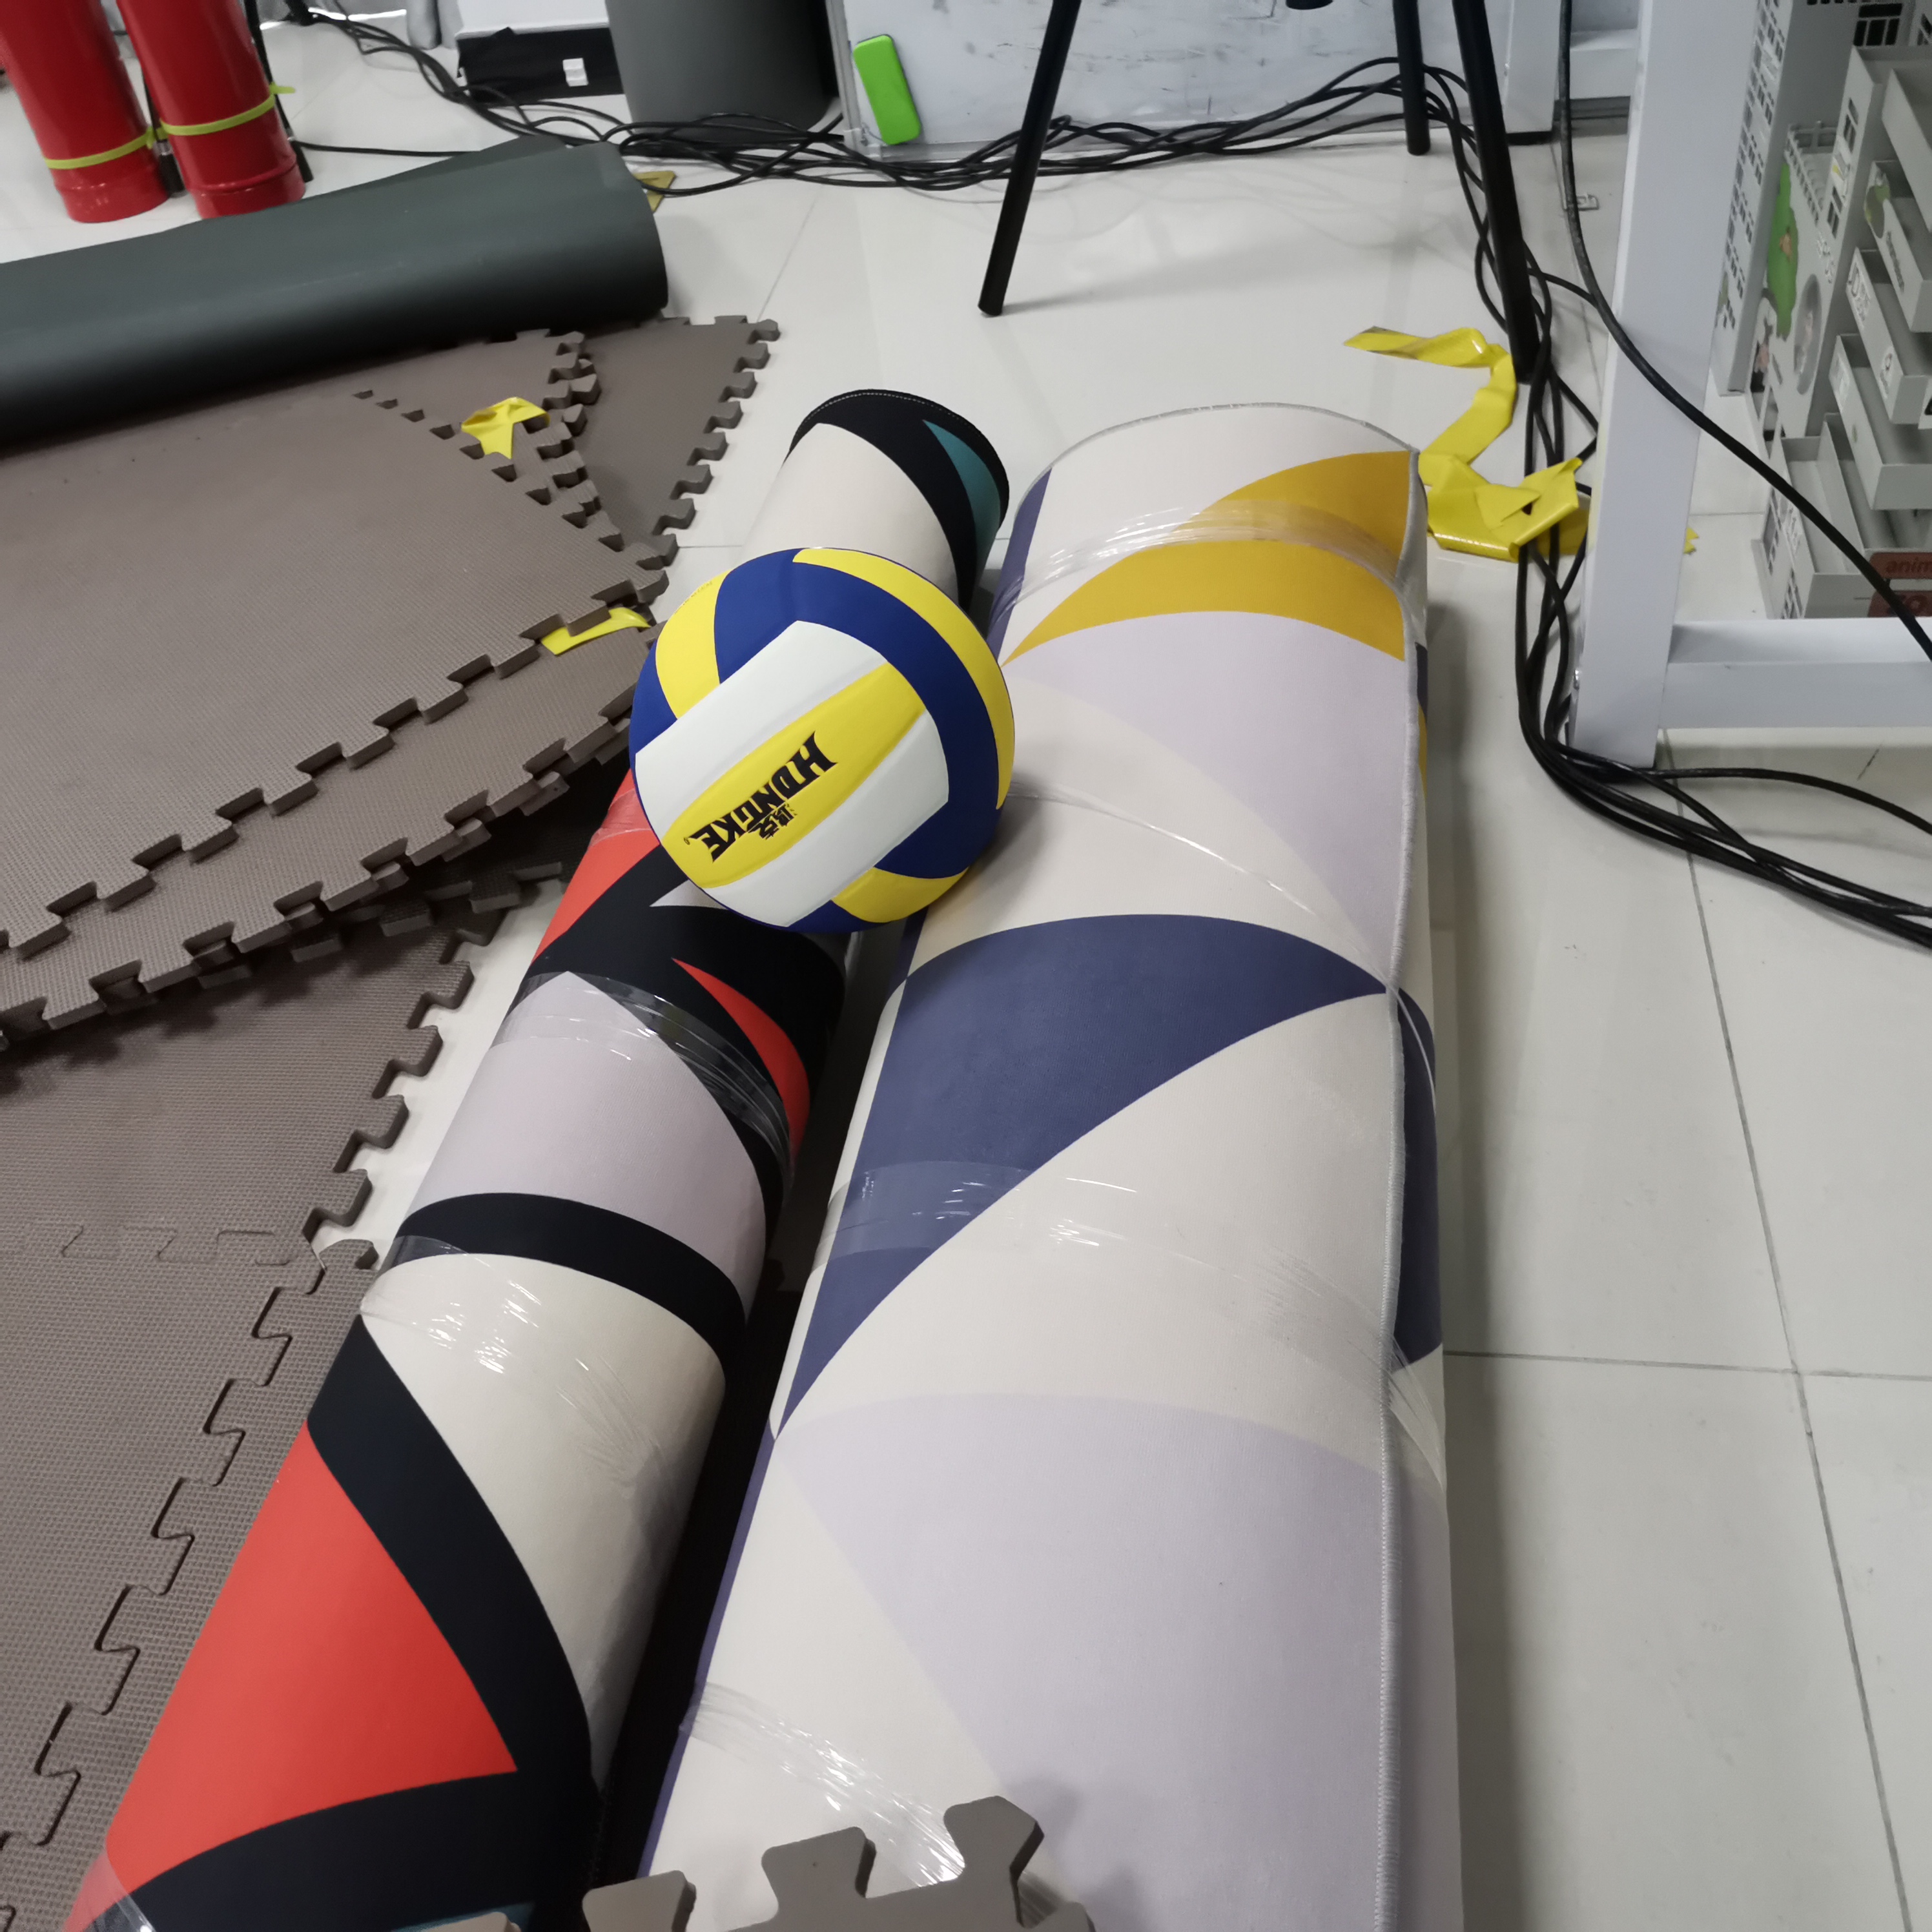volleyball: (628, 543, 1012, 924)
